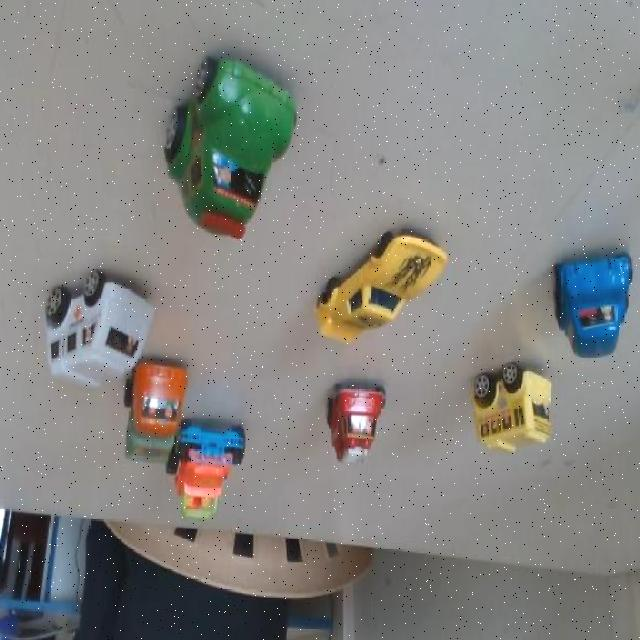car: (150, 51, 306, 238), (310, 221, 449, 349), (40, 256, 158, 401), (171, 420, 258, 530), (554, 250, 638, 358), (462, 354, 550, 454), (120, 353, 190, 475), (313, 368, 387, 473)
